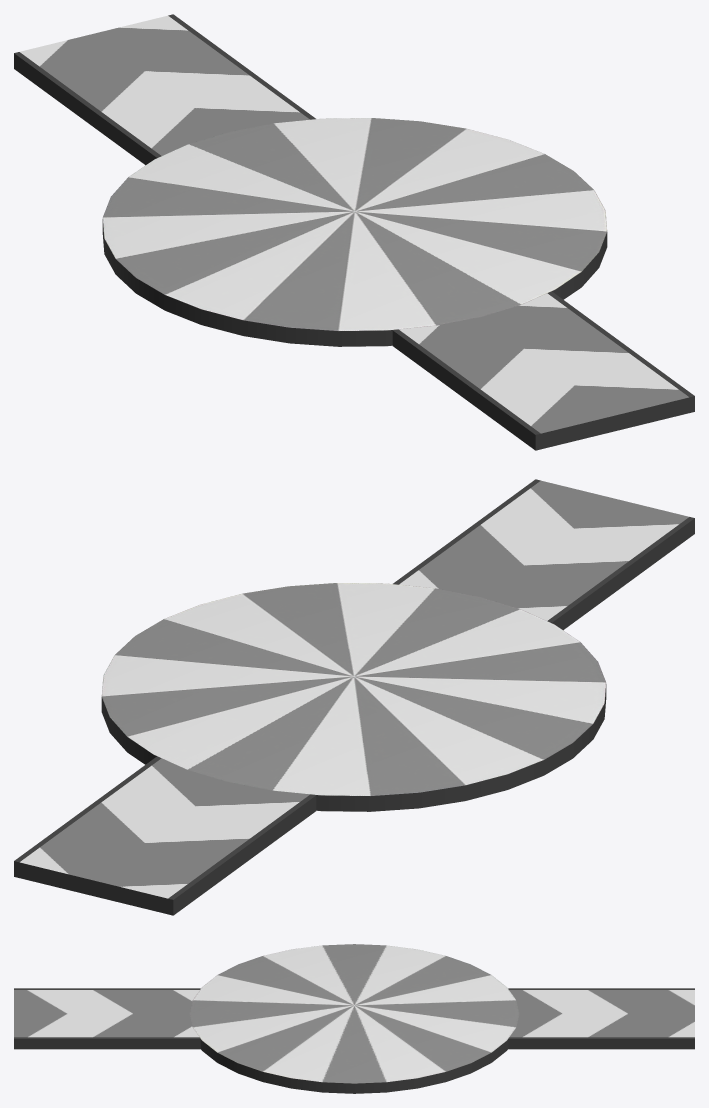
File: circle.platform.fbx
The picture shows the model from 3 angles, top to bottom: view 1: azimuth 30°, elevation 25°; view 2: azimuth 150°, elevation 25°; view 3: azimuth 270°, elevation 25°; orthographic projection. The views are drawn at different scales.
Visible parts, largest first — view 1: circle, circle.link; view 2: circle, circle.link; view 3: circle, circle.link.
Part boxes in pixels (x1,y1,x2,y2): circle: (102,118,607,346); circle.link: (14,14,694,450); circle: (101,583,606,811); circle.link: (14,479,694,915); circle: (189,944,519,1093); circle.link: (14,988,694,1049).
Bounding box in the file's own units: 1321 × 82.77 × 2726.
